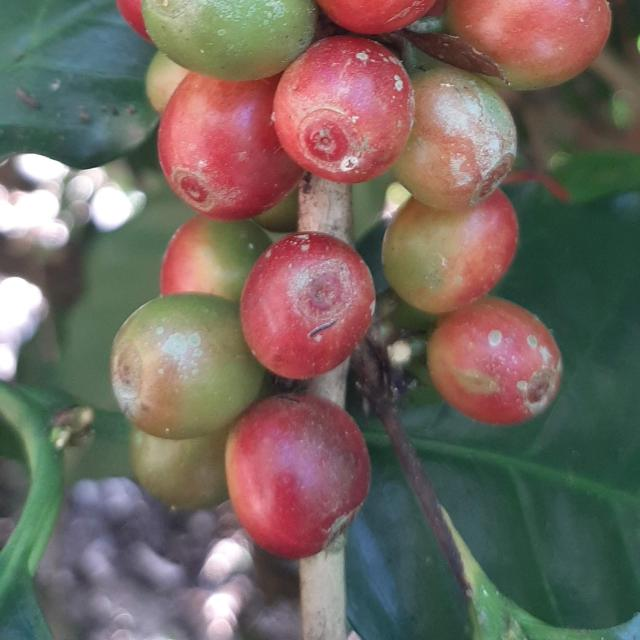green: (110, 294, 264, 440), (142, 0, 318, 80), (129, 428, 229, 511)
red: (157, 72, 303, 221), (273, 35, 415, 183), (240, 232, 375, 379), (317, 0, 436, 33)
yellow: (225, 395, 371, 560), (394, 65, 517, 210), (428, 297, 563, 425), (383, 189, 519, 314), (446, 0, 612, 89), (160, 215, 271, 302)
